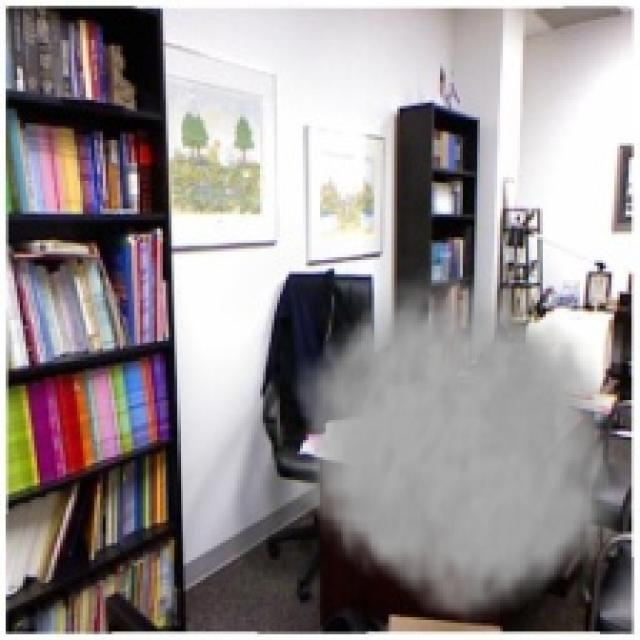smoke: (292, 257, 634, 632)
